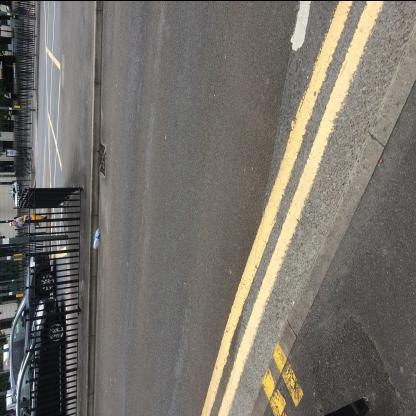plastik: (95, 228, 101, 250)
